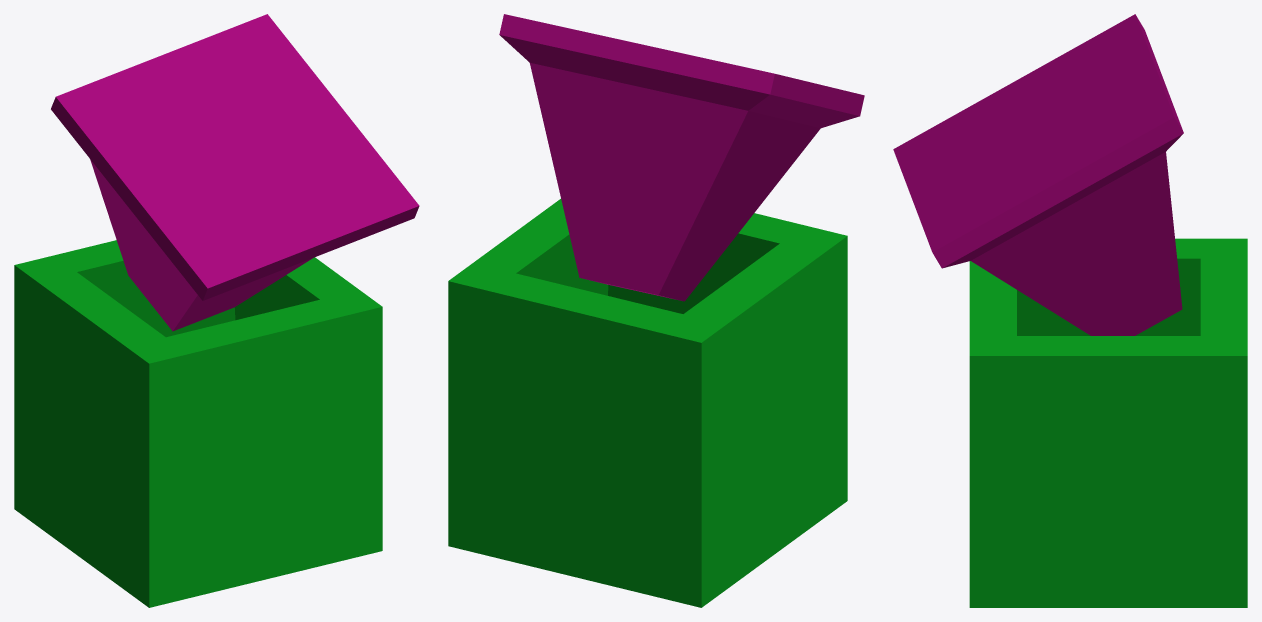
Rendered from AnimatedBox_000139.obj.
3 renders of one model, left to right at view 1: azimuth 30°, elevation 25°; view 2: azimuth 150°, elevation 25°; view 3: azimuth 270°, elevation 25°, orthographic. The views are drawn at different scales.
Visible parts, largest first — view 1: Cube, Cube.001; view 2: Cube, Cube.001; view 3: Cube, Cube.001.
Boxes of the visible parts, bbox=[...] form: Cube: bbox=[14, 240, 382, 607]; Cube.001: bbox=[51, 14, 419, 331]; Cube: bbox=[448, 199, 847, 607]; Cube.001: bbox=[499, 14, 864, 301]; Cube: bbox=[969, 238, 1247, 607]; Cube.001: bbox=[893, 14, 1183, 335].
Bounding box in the file's own units: 2.28 × 3.83 × 2.55.
